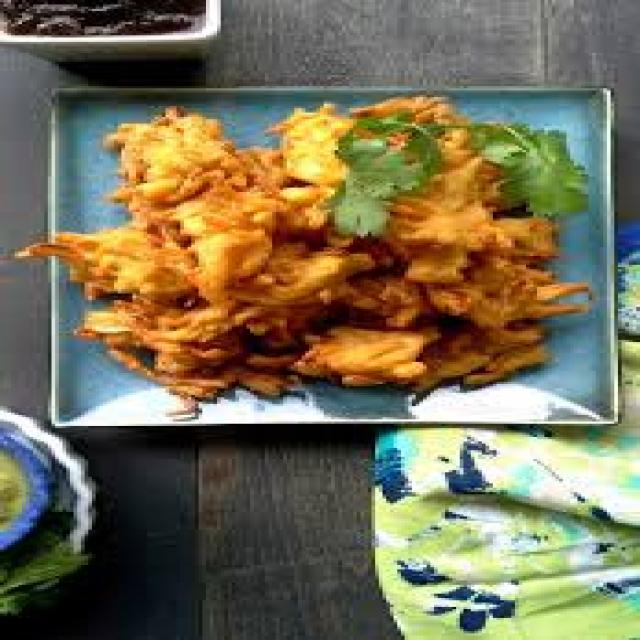BAJI: (18, 95, 585, 399)
